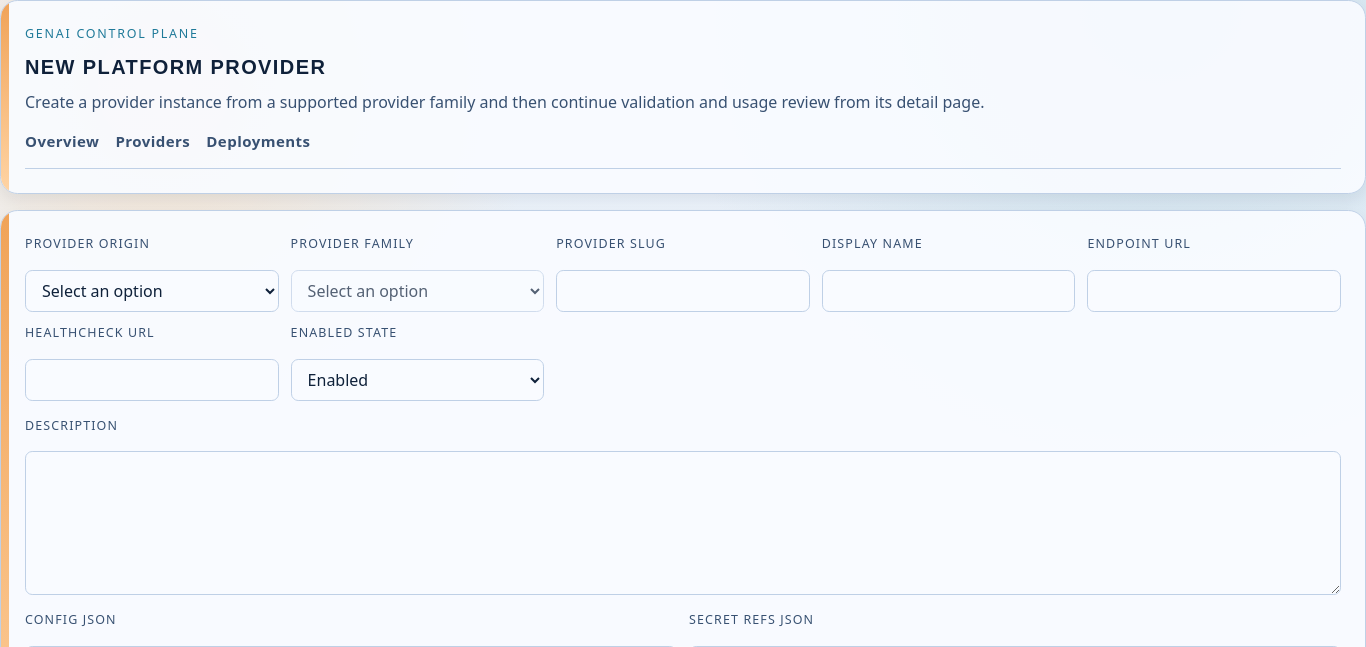
PlatformProviderCreatePage › filters provider families by the selected provider origin
Expected: the dropdown labelled "Provider family" is disabled, top-left (291, 270), bottom-right (544, 312)
Step 1. Select "Cloud" in the dropdown labelled "Provider origin" → [152, 291], box top-left (25, 270), bottom-right (279, 312)
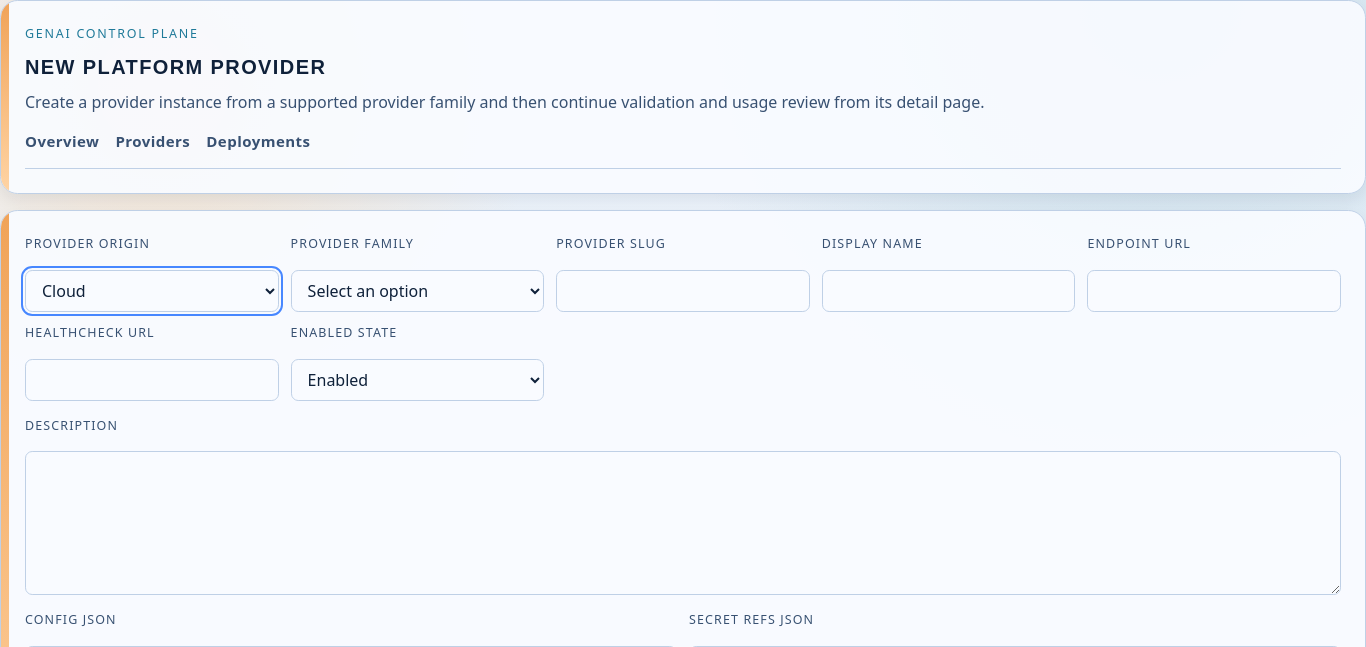
Now the dropdown labelled "Provider family" is enabled, box top-left (291, 270), bottom-right (544, 312)
